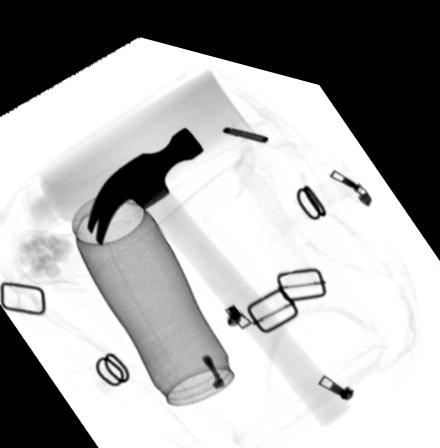Hammer: (85, 115, 354, 409)
